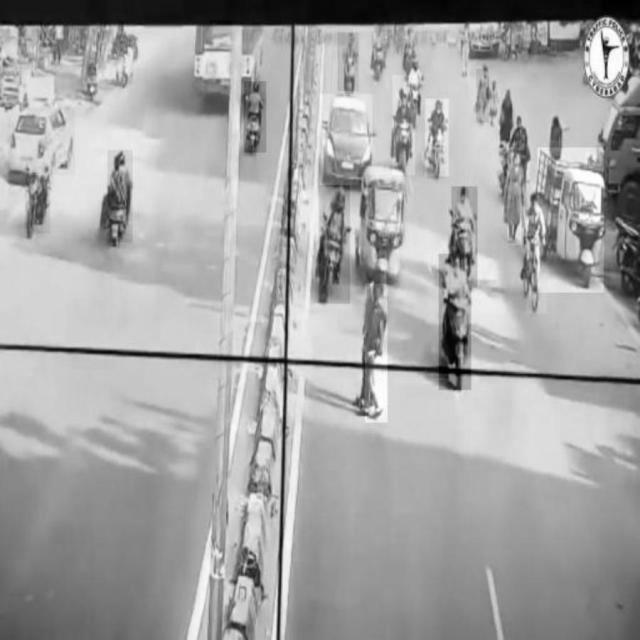person: (365, 281, 387, 423), (507, 148, 521, 246), (477, 69, 489, 123)
vehicle: (538, 147, 604, 291), (359, 168, 406, 284), (321, 94, 373, 185), (8, 108, 75, 175), (439, 254, 471, 390), (319, 184, 349, 304), (452, 187, 478, 288), (526, 183, 546, 314), (392, 75, 416, 175), (25, 144, 51, 234), (108, 150, 133, 243), (425, 99, 449, 176), (245, 81, 267, 152), (338, 33, 358, 91)
